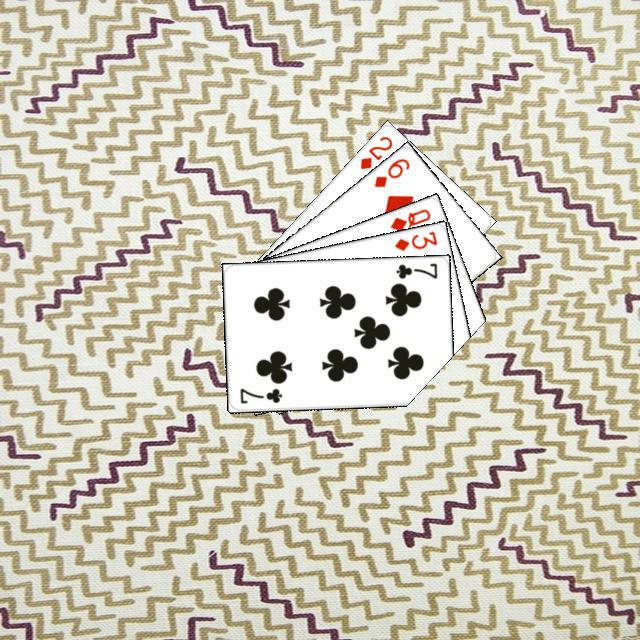2d: (355, 131, 394, 171)
3d: (389, 226, 439, 252)
6d: (369, 153, 411, 189)
7c: (235, 383, 284, 405), (391, 258, 439, 280)
Qd: (385, 204, 432, 233)
